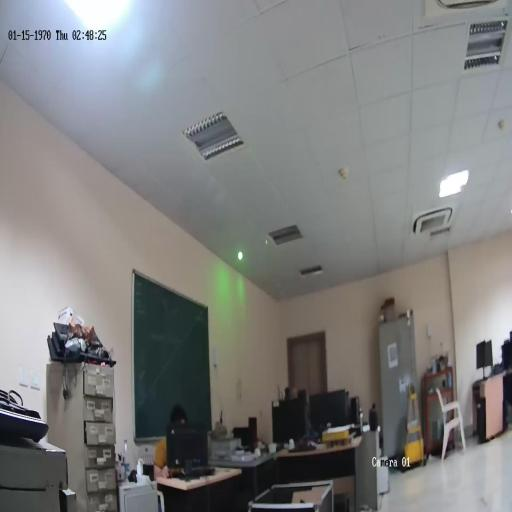laser: (236, 249, 244, 261)
